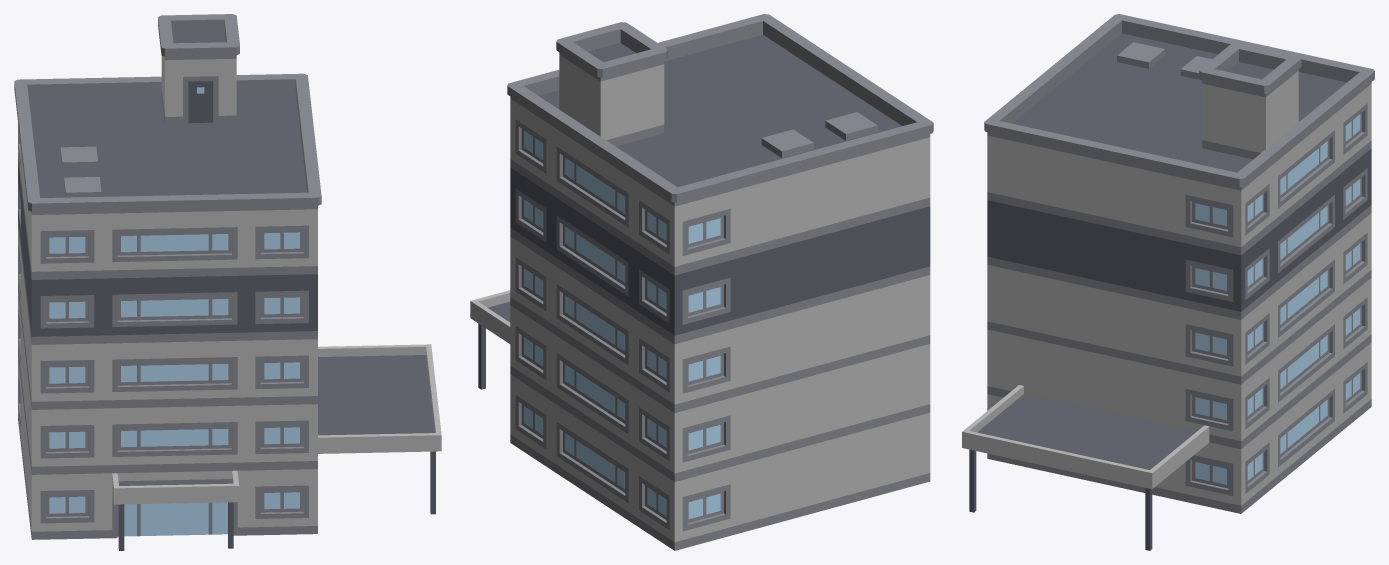
Rendered from large_buildingG.obj.
The picture shows the model from 3 angles, left to right: view 1: azimuth 30°, elevation 25°; view 2: azimuth 150°, elevation 25°; view 3: azimuth 270°, elevation 25°; orthographic projection. The views are drawn at different scales.
Visible parts, largest first — view 1: large_buildingG.002; view 2: large_buildingG.002; view 3: large_buildingG.002.
Boxes of the visible parts, x1,y1,x2,y2 form: large_buildingG.002: (14, 14, 441, 550); large_buildingG.002: (470, 14, 933, 550); large_buildingG.002: (962, 14, 1374, 550).
Bounding box in the file's own units: 39.81 × 36.52 × 34.09.
